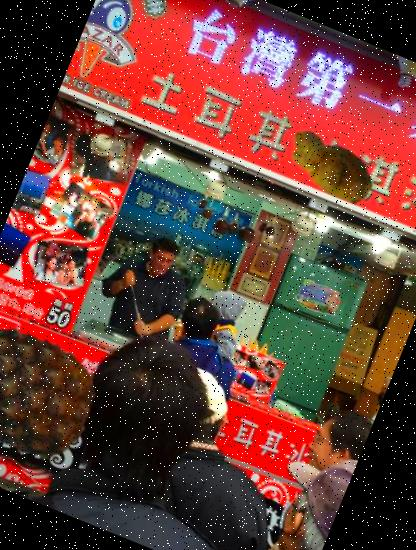Ginger: (267, 104, 393, 230)
Pineapple: (0, 303, 115, 484)
